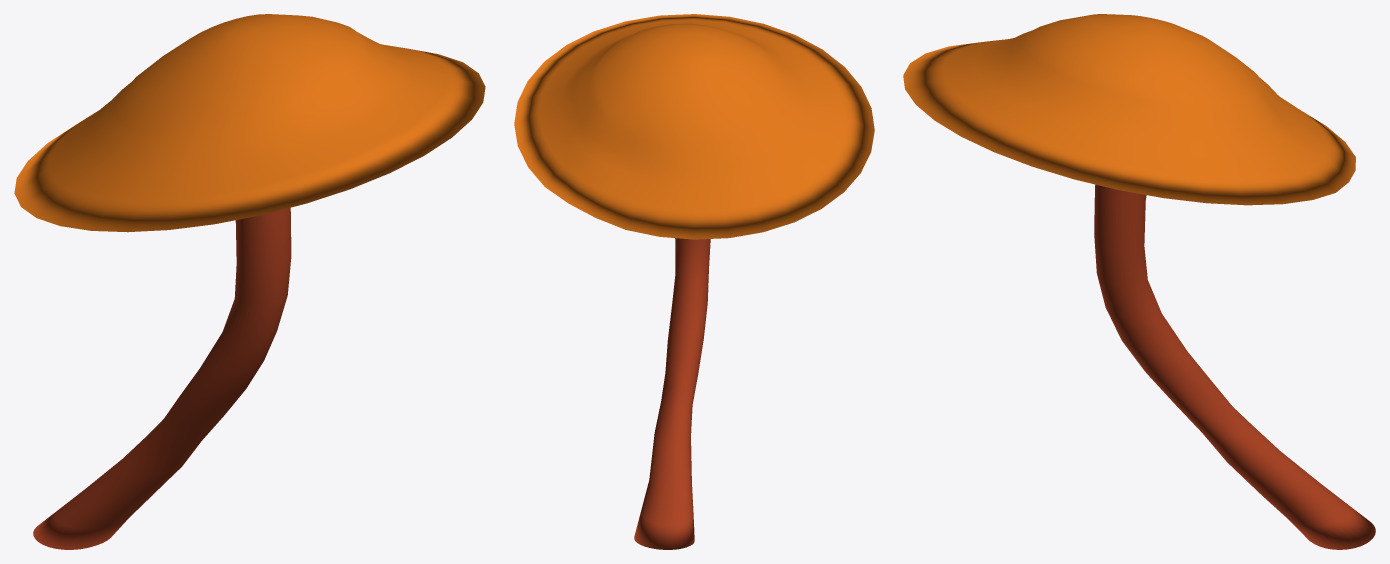
The model's file is mushroomTall01_001.fbx.
3 views of the same model, side by side, from view 1: azimuth 30°, elevation 25°; view 2: azimuth 150°, elevation 25°; view 3: azimuth 270°, elevation 25° (orthographic). The views are drawn at different scales.
Parts seen in each view (by area): view 1: Sphere.001; view 2: Sphere.001; view 3: Sphere.001.
Part boxes in pixels (bbox=[...]): Sphere.001: bbox=[14, 14, 485, 549]; Sphere.001: bbox=[514, 14, 874, 549]; Sphere.001: bbox=[903, 14, 1375, 549].
Size of the model in its own units: 572 by 748 by 584.
